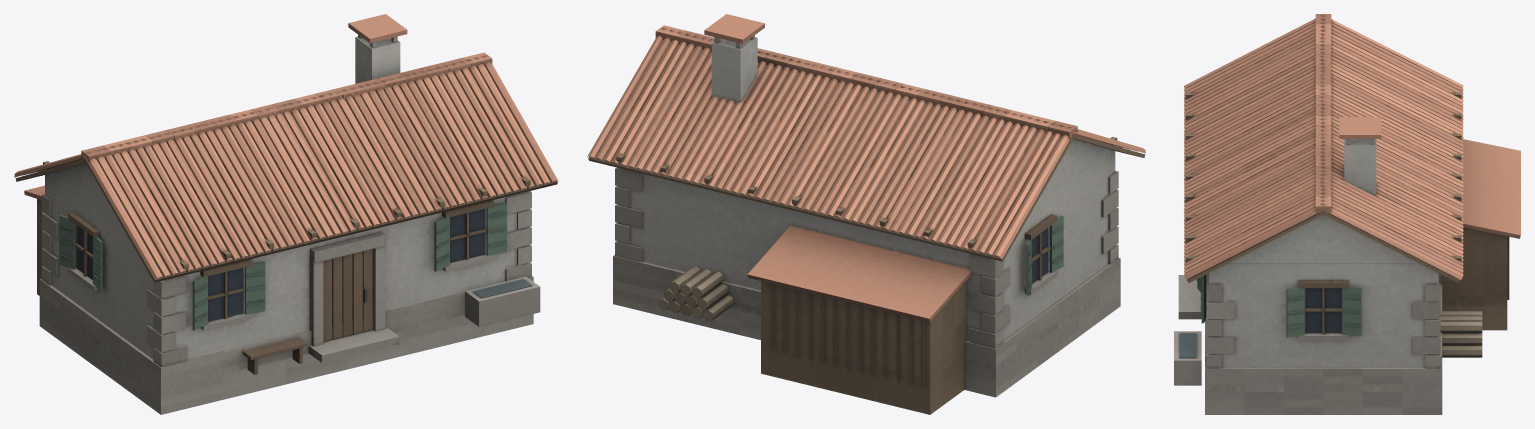
Rendered from plaster-90x30x50-r14-s1.glb.
3 views of the same model, side by side, from view 1: azimuth 30°, elevation 25°; view 2: azimuth 150°, elevation 25°; view 3: azimuth 270°, elevation 25° (orthographic). The views are drawn at different scales.
Visible parts, largest first — view 1: Farmhouse; view 2: Farmhouse; view 3: Farmhouse.
Boxes of the visible parts, bbox=[...] form: Farmhouse: bbox=[14, 14, 558, 414]; Farmhouse: bbox=[587, 14, 1145, 414]; Farmhouse: bbox=[1174, 14, 1520, 414].
Size of the model in its own units: 9.93 by 6.06 by 7.54.
1 material, 1 textured.
